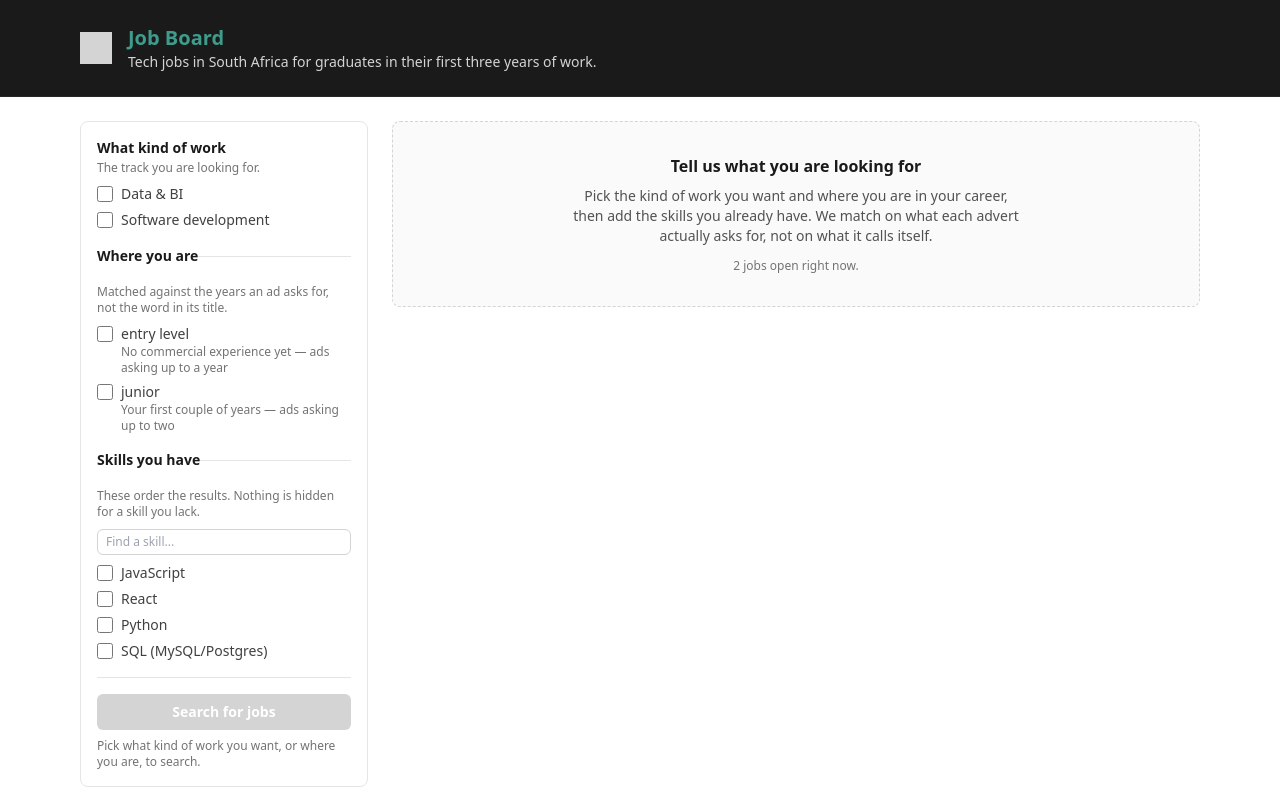
Scenario: App › narrows the results with the keyword box, once there are results
Check: the text "2 jobs open right now." is shown, box [733,257,859,274]
Click the checkbox labelled "entry level" at (105, 334), box [97,326,113,342]
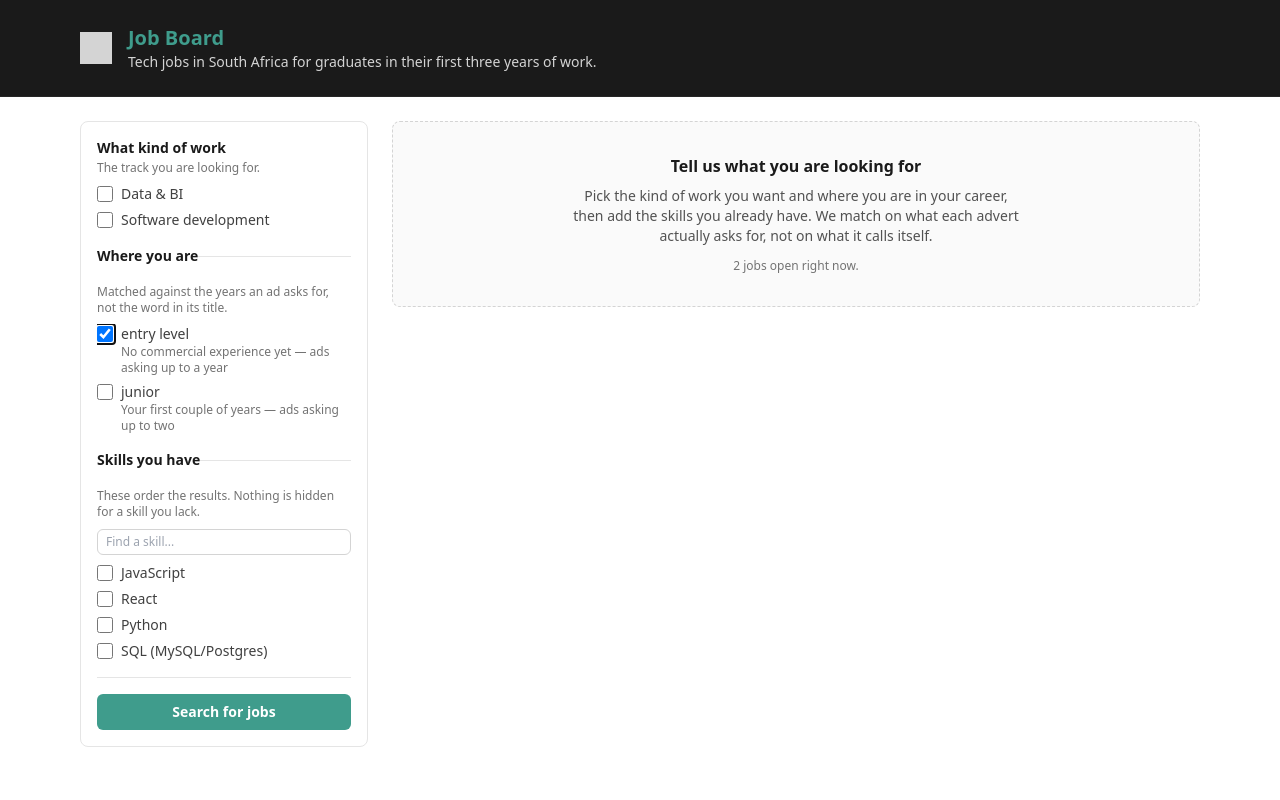
Click the checkbox labelled "junior Your first couple of years — ads asking up to two" at (105, 392), box [97,384,113,400]
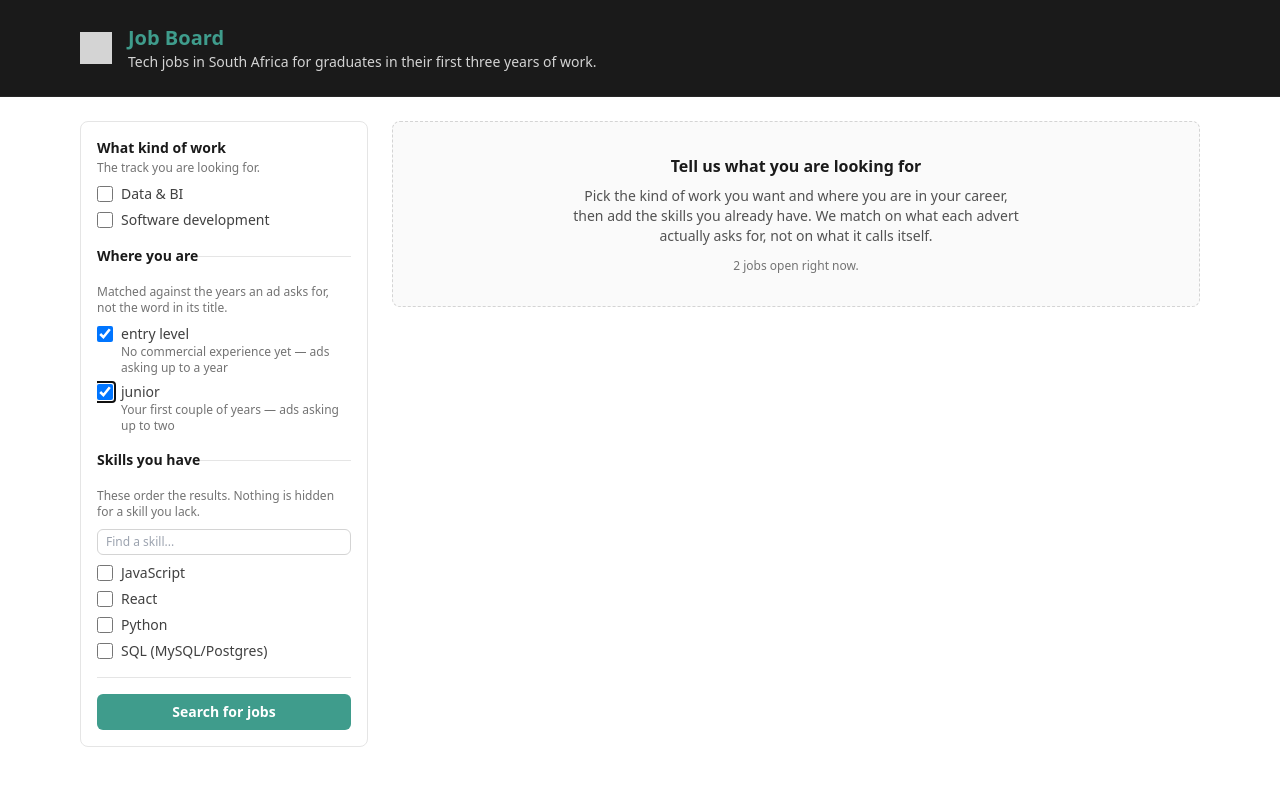
Click the button "Search for jobs" at (224, 712), box [97,694,351,730]
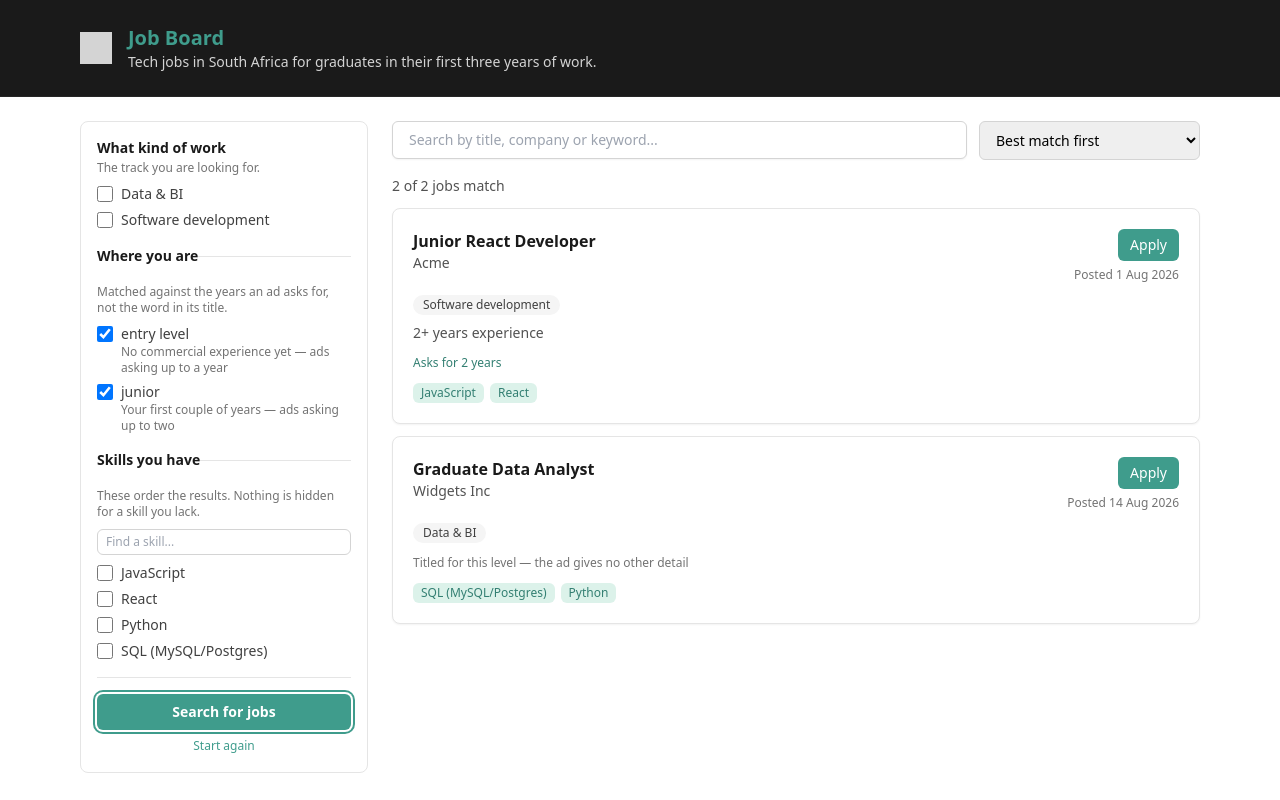
Check: the text "2 of 2 jobs match" is shown, box [392,176,505,195]
Type "Acme" into the search field named "Search jobs" at (680, 140), box [392,121,967,159]
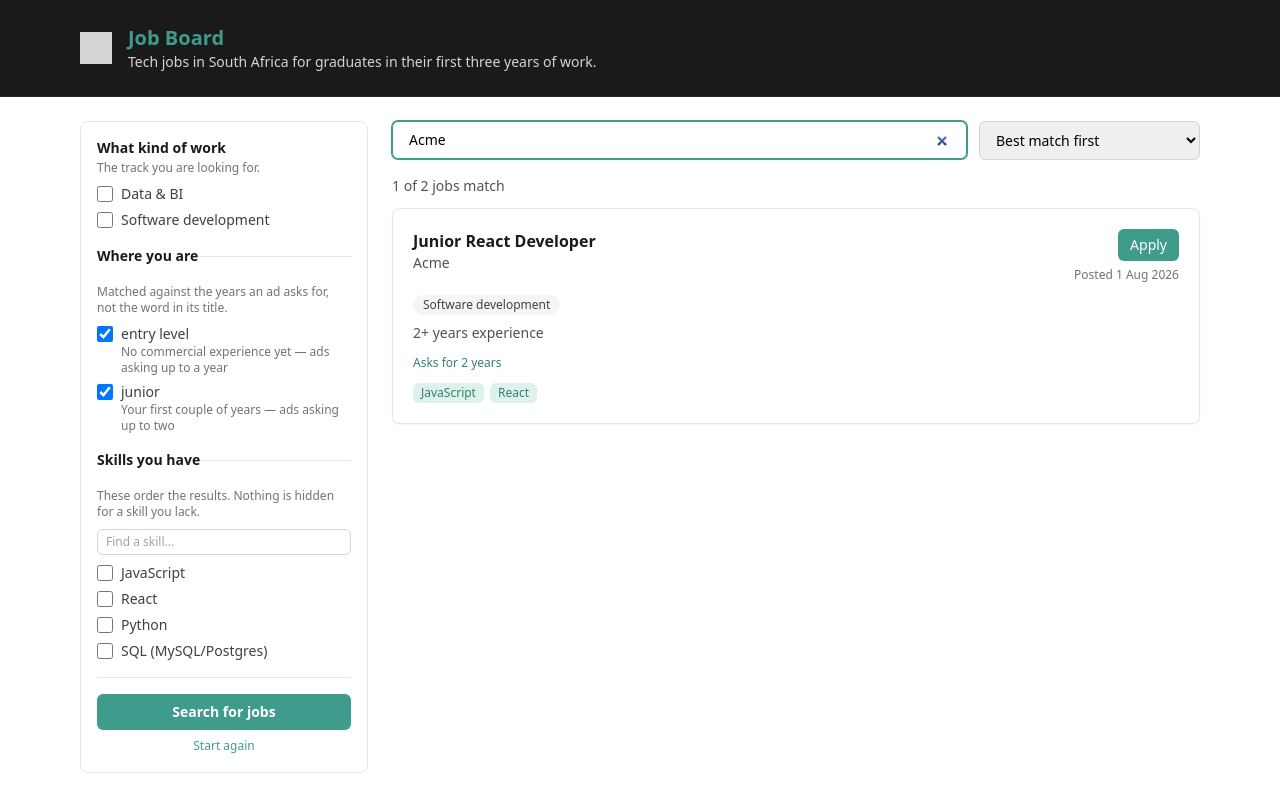
Check: the text "1 of 2 jobs match" is shown, box [392,176,505,195]
